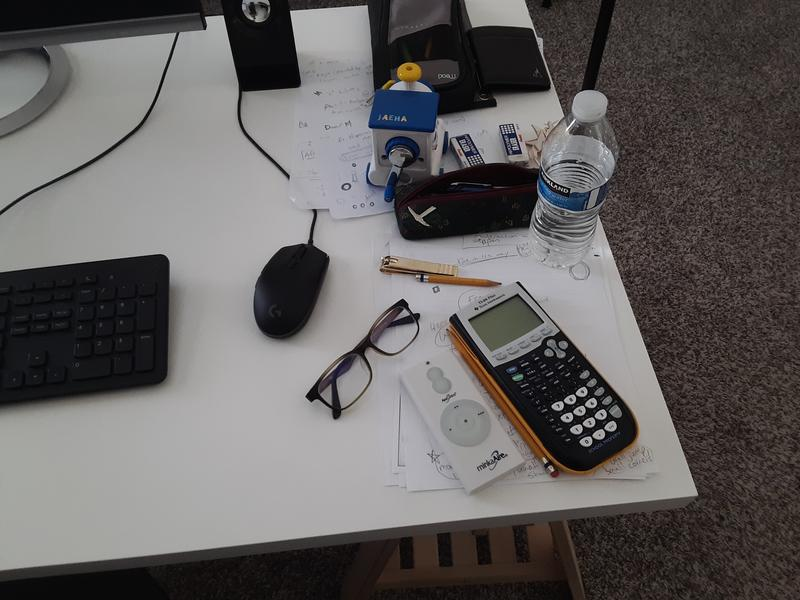glasses: (305, 298, 422, 420)
